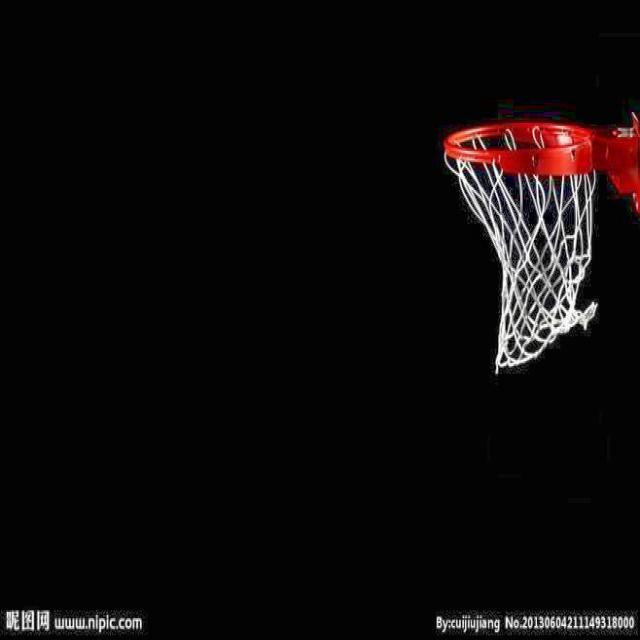rim: (443, 120, 600, 377)
